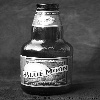beer: (21, 3, 73, 93)
